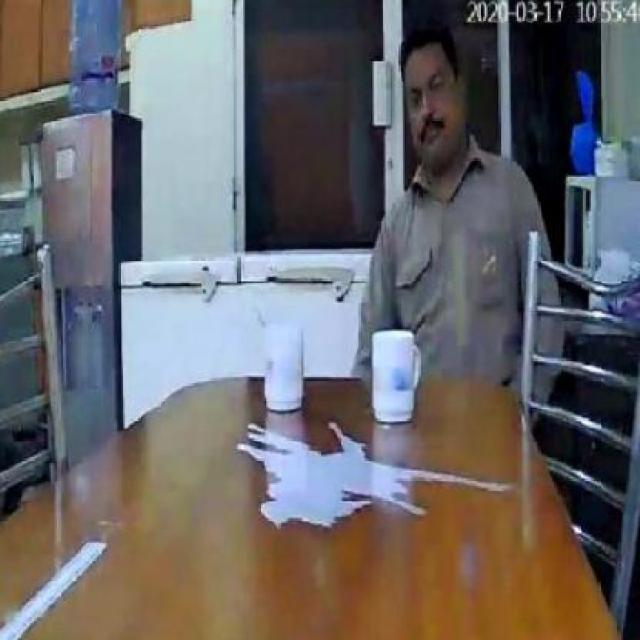spillage: (237, 422, 504, 528)
